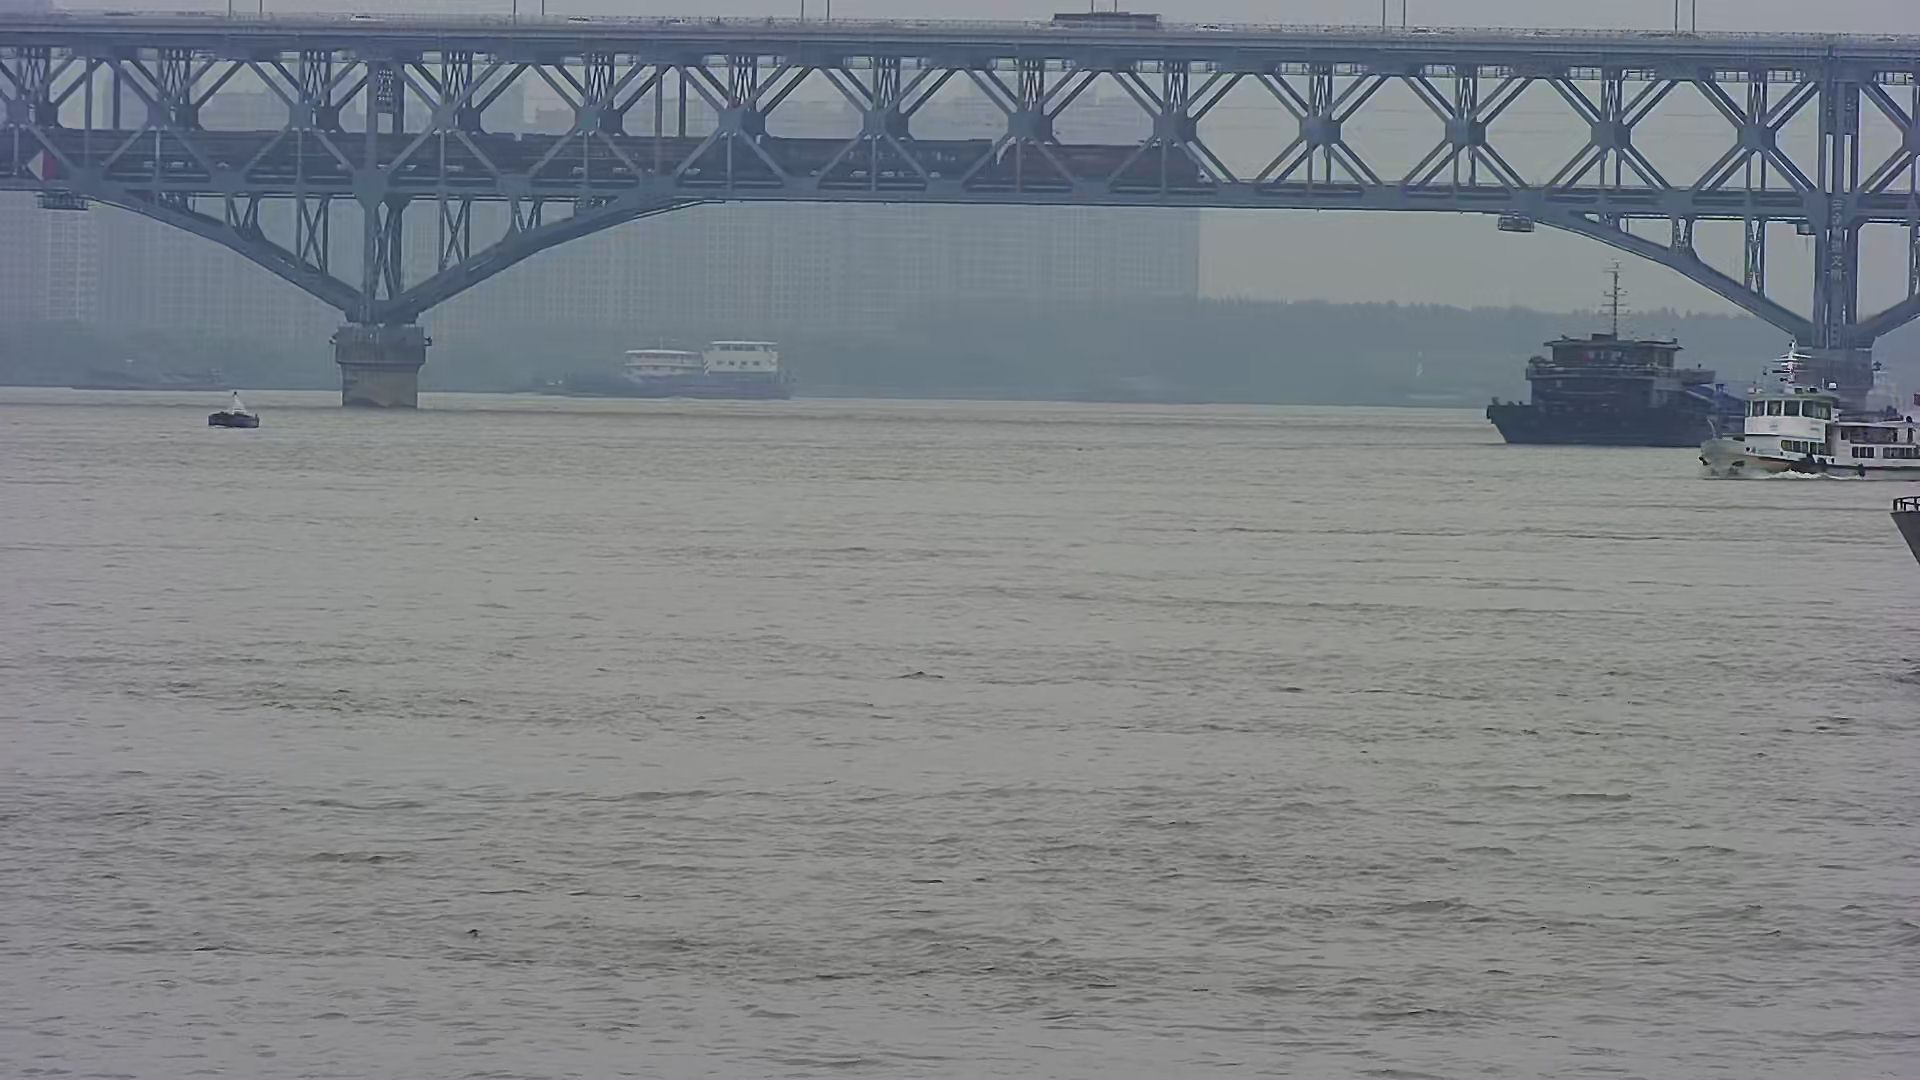boat: (196, 381, 285, 436)
bridge: (7, 5, 1920, 409)
ship: (1474, 255, 1745, 458), (1683, 327, 1920, 483), (647, 318, 814, 405), (546, 331, 705, 404)
